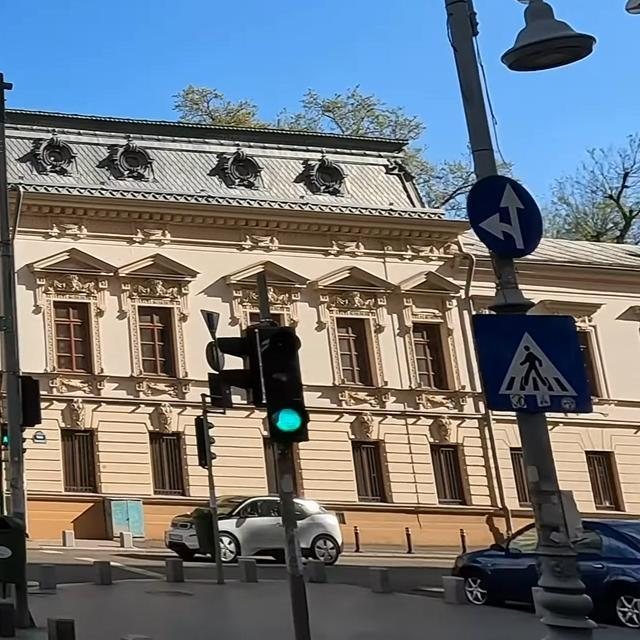info_crosswalk: (468, 312, 597, 411)
